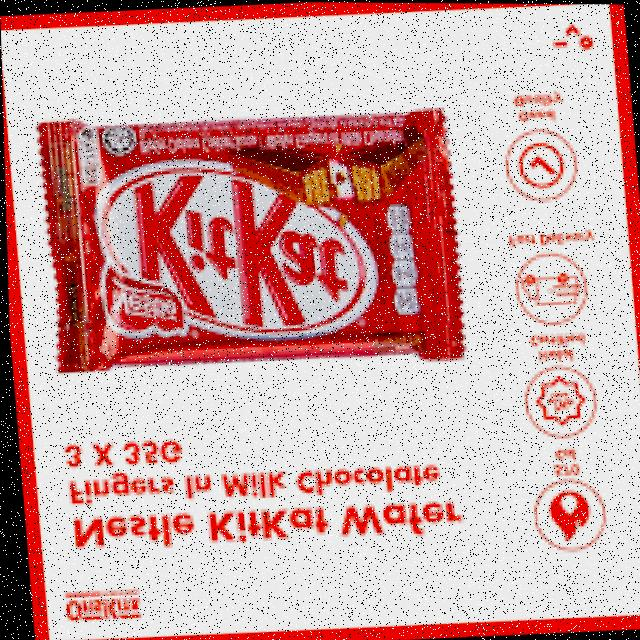kitkat: (32, 101, 468, 380)
